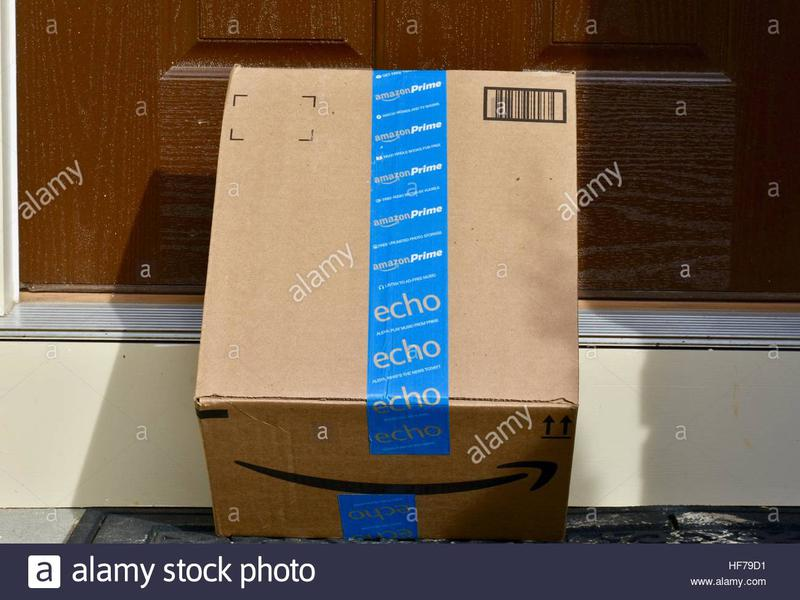package: (184, 57, 594, 543)
